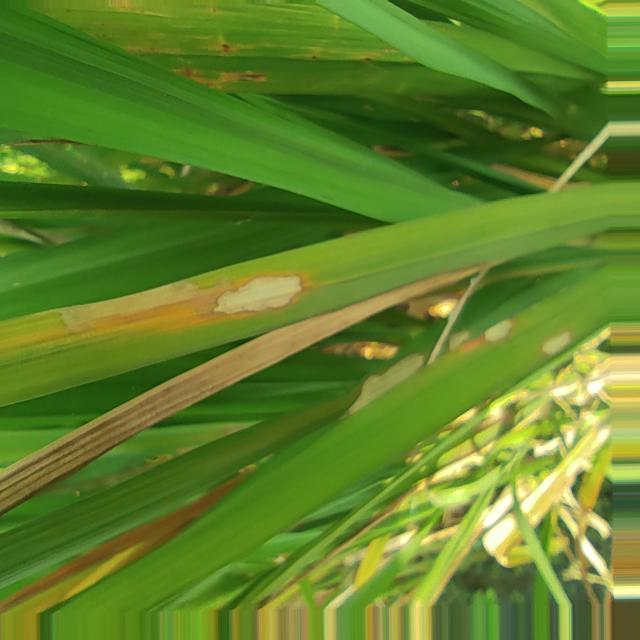Leaf_Blast: (0, 268, 479, 514)
Rice False Smut: (60, 280, 202, 328), (214, 275, 302, 314)
